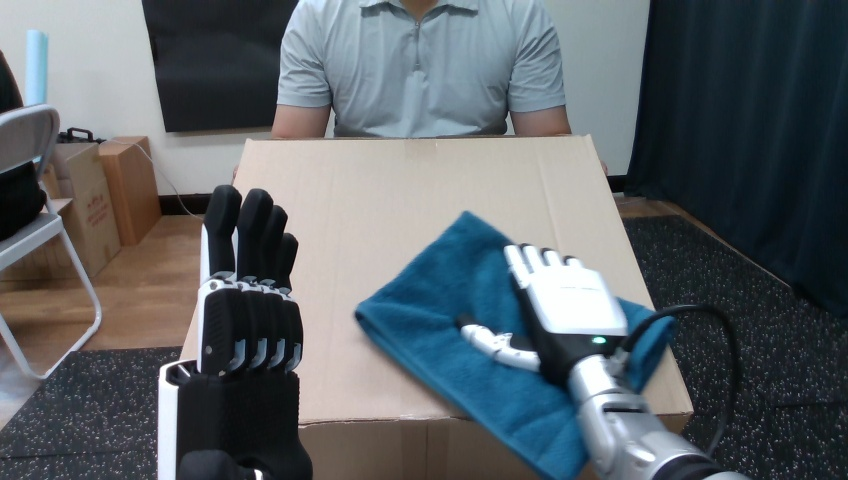left robot hand: (457, 244, 747, 479), (158, 185, 311, 478), (625, 310, 732, 453)
